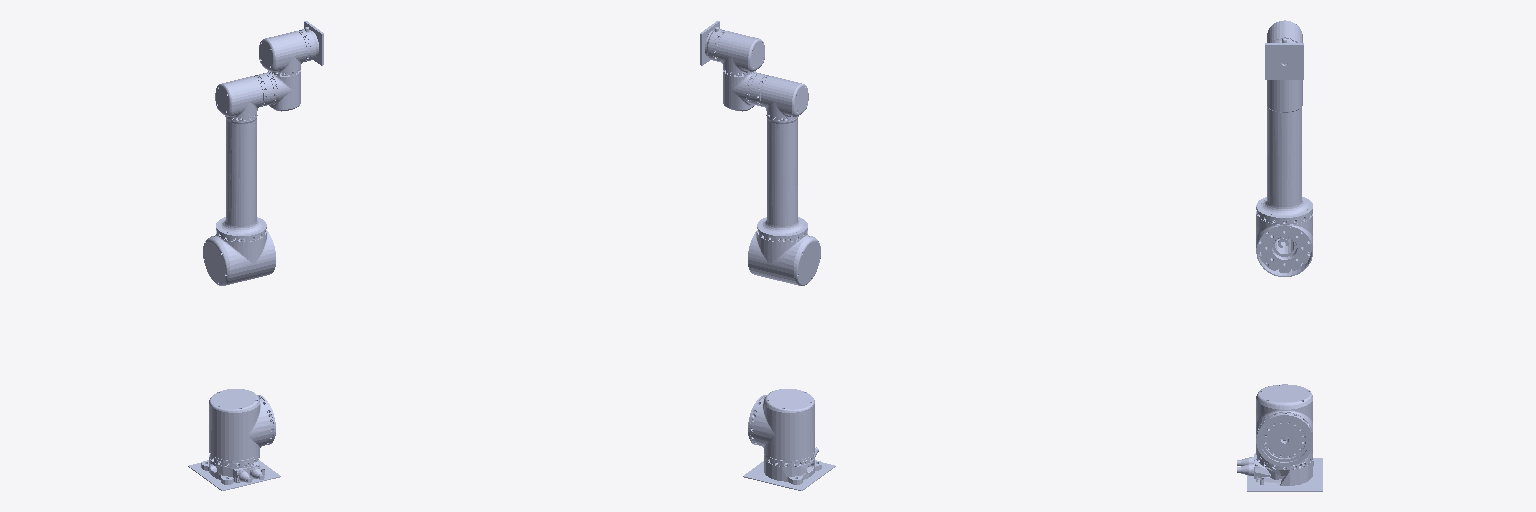
URDF robot description (zeroerr_arm):
<?xml version="1.0" encoding="utf-8"?>
<!-- This URDF was automatically created by SolidWorks to URDF Exporter! Originally created by [author] ([email redacted]) 
     Commit Version: 1.6.0-4-g7f85cfe  Build Version: 1.6.7995.38578
     For more information, please see http://wiki.ros.org/sw_urdf_exporter -->
<robot
  name="zeroerr_arm">
  <link
    name="base_link">
    <inertial>
      <origin
        xyz="0.0775 0.0069078 0.099208"
        rpy="0 0 0" />
      <mass
        value="0.085937" />
      <inertia
        ixx="0.00010525"
        ixy="-1.4365E-11"
        ixz="-3.3532E-10"
        iyy="0.00020742"
        iyz="1.6216E-11"
        izz="0.00010413" />
    </inertial>
    <visual>
      <origin
        xyz="0 0 0"
        rpy="0 0 0" />
      <geometry>
        <mesh
          filename="package://zeroerr_description/meshes/base_link.STL" />
      </geometry>
      <material
        name="">
        <color
          rgba="0.79216 0.81961 0.93333 1" />
      </material>
    </visual>
    <collision>
      <origin
        xyz="0 0 0"
        rpy="0 0 0" />
      <geometry>
        <mesh
          filename="package://zeroerr_description/meshes/base_link.STL" />
      </geometry>
    </collision>
  </link>
  <link
    name="j1_Link">
    <inertial>
      <origin
        xyz="1.39809714516242E-05 0.0669939444308098 -0.00885629168232677"
        rpy="0 0 0" />
      <mass
        value="1.13778617636807" />
      <inertia
        ixx="0.0021797026218081"
        ixy="-6.78707202643595E-07"
        ixz="-8.2341938376074E-07"
        iyy="0.00208311956408711"
        iyz="5.73235828886071E-05"
        izz="0.00211124112367574" />
    </inertial>
    <visual>
      <origin
        xyz="0 0 0"
        rpy="0 0 0" />
      <geometry>
        <mesh
          filename="package://zeroerr_description/meshes/j1_Link.STL" />
      </geometry>
      <material
        name="">
        <color
          rgba="0.792156862745098 0.819607843137255 0.933333333333333 1" />
      </material>
    </visual>
    <collision>
      <origin
        xyz="0 0 0"
        rpy="0 0 0" />
      <geometry>
        <mesh
          filename="package://zeroerr_description/meshes/j1_Link.STL" />
      </geometry>
    </collision>
  </link>
  <joint
    name="j1"
    type="continuous">
    <origin
      xyz="0.0775 -0.0775 0.0389"
      rpy="1.57 0 -1.570796327" />
    <parent
      link="base_link" />
    <child
      link="j1_Link" />
    <axis
      xyz="0 1 0" />
  </joint>
  <link
    name="j2_Link">
    <inertial>
      <origin
        xyz="7.35050096289935E-07 0.212502487502418 -0.128617388856667"
        rpy="0 0 0" />
      <mass
        value="2.70662121520297" />
      <inertia
        ixx="0.00980557500137448"
        ixy="-1.63595311376548E-06"
        ixz="-1.39298220716479E-07"
        iyy="0.00504716746672425"
        iyz="3.89692286686255E-10"
        izz="0.00961310793580224" />
    </inertial>
    <visual>
      <origin
        xyz="0 0 0"
        rpy="0 0 0" />
      <geometry>
        <mesh
          filename="package://zeroerr_description/meshes/j2_Link.STL" />
      </geometry>
      <material
        name="">
        <color
          rgba="0.792156862745098 0.819607843137255 0.933333333333333 1" />
      </material>
    </visual>
    <collision>
      <origin
        xyz="0 0 0"
        rpy="0 0 0" />
      <geometry>
        <mesh
          filename="package://zeroerr_description/meshes/j2_Link.STL" />
      </geometry>
    </collision>
  </link>
  <joint
    name="j2"
    type="continuous">
    <origin
      xyz="0 0.0734000000000014 0"
      rpy="0 0 0" />
    <parent
      link="j1_Link" />
    <child
      link="j2_Link" />
    <axis
      xyz="0 0 -1" />
  </joint>
  <link
    name="j3_Link">
    <inertial>
      <origin
        xyz="4.14499979048411E-06 0.136177277027621 -0.0164491381365687"
        rpy="0 0 0" />
      <mass
        value="1.64557369565779" />
      <inertia
        ixx="0.0061874899408556"
        ixy="7.90680995424762E-07"
        ixz="-3.06656843069349E-07"
        iyy="0.00216040928773684"
        iyz="2.39278474234378E-05"
        izz="0.00663810025235098" />
    </inertial>
    <visual>
      <origin
        xyz="0 0 0"
        rpy="0 0 0" />
      <geometry>
        <mesh
          filename="package://zeroerr_description/meshes/j3_Link.STL" />
      </geometry>
      <material
        name="">
        <color
          rgba="0.792156862745098 0.819607843137255 0.933333333333333 1" />
      </material>
    </visual>
    <collision>
      <origin
        xyz="0 0 0"
        rpy="0 0 0" />
      <geometry>
        <mesh
          filename="package://zeroerr_description/meshes/j3_Link.STL" />
      </geometry>
    </collision>
  </link>
  <joint
    name="j3"
    type="continuous">
    <origin
      xyz="0 0.425 0"
      rpy="0 0 0" />
    <parent
      link="j2_Link" />
    <child
      link="j3_Link" />
    <axis
      xyz="0 0 1" />
  </joint>
  <link
    name="j4_Link">
    <inertial>
      <origin
        xyz="2.22401702753977E-05 0.000296442259161256 -0.0235523956560789"
        rpy="0 0 0" />
      <mass
        value="0.388500039640416" />
      <inertia
        ixx="0.000287119470784055"
        ixy="1.14088933267957E-07"
        ixz="1.06205342371445E-07"
        iyy="0.000301174229722053"
        iyz="4.4865099764138E-07"
        izz="0.000298502877255689" />
    </inertial>
    <visual>
      <origin
        xyz="0 0 0"
        rpy="0 0 0" />
      <geometry>
        <mesh
          filename="package://zeroerr_description/meshes/j4_Link.STL" />
      </geometry>
      <material
        name="">
        <color
          rgba="0.792156862745098 0.819607843137255 0.933333333333333 1" />
      </material>
    </visual>
    <collision>
      <origin
        xyz="0 0 0"
        rpy="0 0 0" />
      <geometry>
        <mesh
          filename="package://zeroerr_description/meshes/j4_Link.STL" />
      </geometry>
    </collision>
  </link>
  <joint
    name="j4"
    type="continuous">
    <origin
      xyz="0 0.400999999999999 -0.0930934055822586"
      rpy="0 0 0" />
    <parent
      link="j3_Link" />
    <child
      link="j4_Link" />
    <axis
      xyz="0 0 -1" />
  </joint>
  <link
    name="j5_Link">
    <inertial>
      <origin
        xyz="-2.08571929433549E-05 0.0450511415928927 -0.013729662854679"
        rpy="0 0 0" />
      <mass
        value="0.413553678243016" />
      <inertia
        ixx="0.00029147123952223"
        ixy="1.06405616874075E-07"
        ixz="1.1359852283896E-07"
        iyy="0.000277718868421539"
        iyz="4.77879470244231E-07"
        izz="0.000336224747451519" />
    </inertial>
    <visual>
      <origin
        xyz="0 0 0"
        rpy="0 0 0" />
      <geometry>
        <mesh
          filename="package://zeroerr_description/meshes/j5_Link.STL" />
      </geometry>
      <material
        name="">
        <color
          rgba="0.792156862745098 0.819607843137255 0.933333333333333 1" />
      </material>
    </visual>
    <collision>
      <origin
        xyz="0 0 0"
        rpy="0 0 0" />
      <geometry>
        <mesh
          filename="package://zeroerr_description/meshes/j5_Link.STL" />
      </geometry>
    </collision>
  </link>
  <joint
    name="j5"
    type="continuous">
    <origin
      xyz="0 0.0381316776493207 -0.0379065944177415"
      rpy="0 0 0" />
    <parent
      link="j4_Link" />
    <child
      link="j5_Link" />
    <axis
      xyz="0 1 0" />
  </joint>
  <link
    name="j6_Link">
    <inertial>
      <origin
        xyz="-6.93889390390723E-16 0.0475091973487687 -2.22044604925031E-16"
        rpy="0 0 0" />
      <mass
        value="0.0395178623740459" />
      <inertia
        ixx="2.17916748567665E-05"
        ixy="-1.01643953670516E-20"
        ixz="-2.85873619698326E-21"
        iyy="4.33177732126034E-05"
        iyz="7.68682399633278E-20"
        izz="2.17916748567665E-05" />
    </inertial>
    <visual>
      <origin
        xyz="0 0 0"
        rpy="0 0 0" />
      <geometry>
        <mesh
          filename="package://zeroerr_description/meshes/j6_Link.STL" />
      </geometry>
      <material
        name="">
        <color
          rgba="0.792156862745098 0.819607843137255 0.933333333333333 1" />
      </material>
    </visual>
    <collision>
      <origin
        xyz="0 0 0"
        rpy="0 0 0" />
      <geometry>
        <mesh
          filename="package://zeroerr_description/meshes/j6_Link.STL" />
      </geometry>
    </collision>
  </link>
  <joint
    name="j6"
    type="continuous">
    <origin
      xyz="0 0.0478683223506789 -0.0281658025970178"
      rpy="-1.5707963267949 0 0" />
    <parent
      link="j5_Link" />
    <child
      link="j6_Link" />
    <axis
      xyz="0 1 0" />
  </joint>
</robot>

--- Render facts (derived) ---
Views: 3 orthographic renders of the robot side by side, from view 1: azimuth 30°, elevation 25°; view 2: azimuth 150°, elevation 25°; view 3: azimuth 270°, elevation 25°.
Model zeroerr_arm with 7 links and 6 joints (6 continuous), rooted at base_link, posed every joint at zero.
Links seen in each view (by area): view 1: j3_Link, j1_Link, j5_Link, base_link, j4_Link; view 2: j3_Link, j1_Link, j5_Link, base_link, j4_Link; view 3: j3_Link, j1_Link, base_link, j6_Link, j4_Link, j5_Link.
Boxes of the visible links, left/top/right/bottom form: j3_Link: left=203, top=76, right=275, bottom=285; j1_Link: left=209, top=389, right=275, bottom=460; j5_Link: left=259, top=27, right=318, bottom=75; base_link: left=188, top=452, right=280, bottom=490; j4_Link: left=254, top=71, right=300, bottom=111; j3_Link: left=748, top=76, right=820, bottom=285; j1_Link: left=748, top=389, right=814, bottom=460; j5_Link: left=705, top=27, right=764, bottom=75; base_link: left=743, top=447, right=835, bottom=490; j4_Link: left=723, top=71, right=769, bottom=111; j3_Link: left=1256, top=106, right=1312, bottom=276; j1_Link: left=1256, top=384, right=1312, bottom=466; base_link: left=1237, top=453, right=1322, bottom=491; j6_Link: left=1265, top=43, right=1303, bottom=79; j4_Link: left=1267, top=80, right=1302, bottom=112; j5_Link: left=1267, top=20, right=1302, bottom=64.
Size in the robot's own frame: 0.2882 by 0.1745 by 1.07 metres.
Meshes: 7 distinct files referenced, 6 mesh visuals loaded (6 binary STL); not drawn: 1 (reference not matched to a file when rendering).